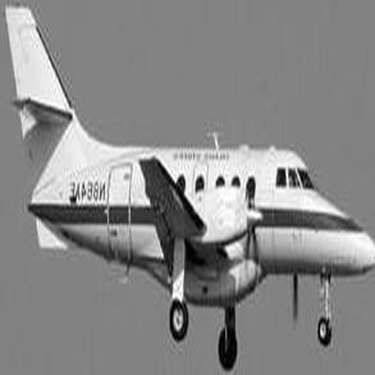airplane: (4, 1, 372, 373)
